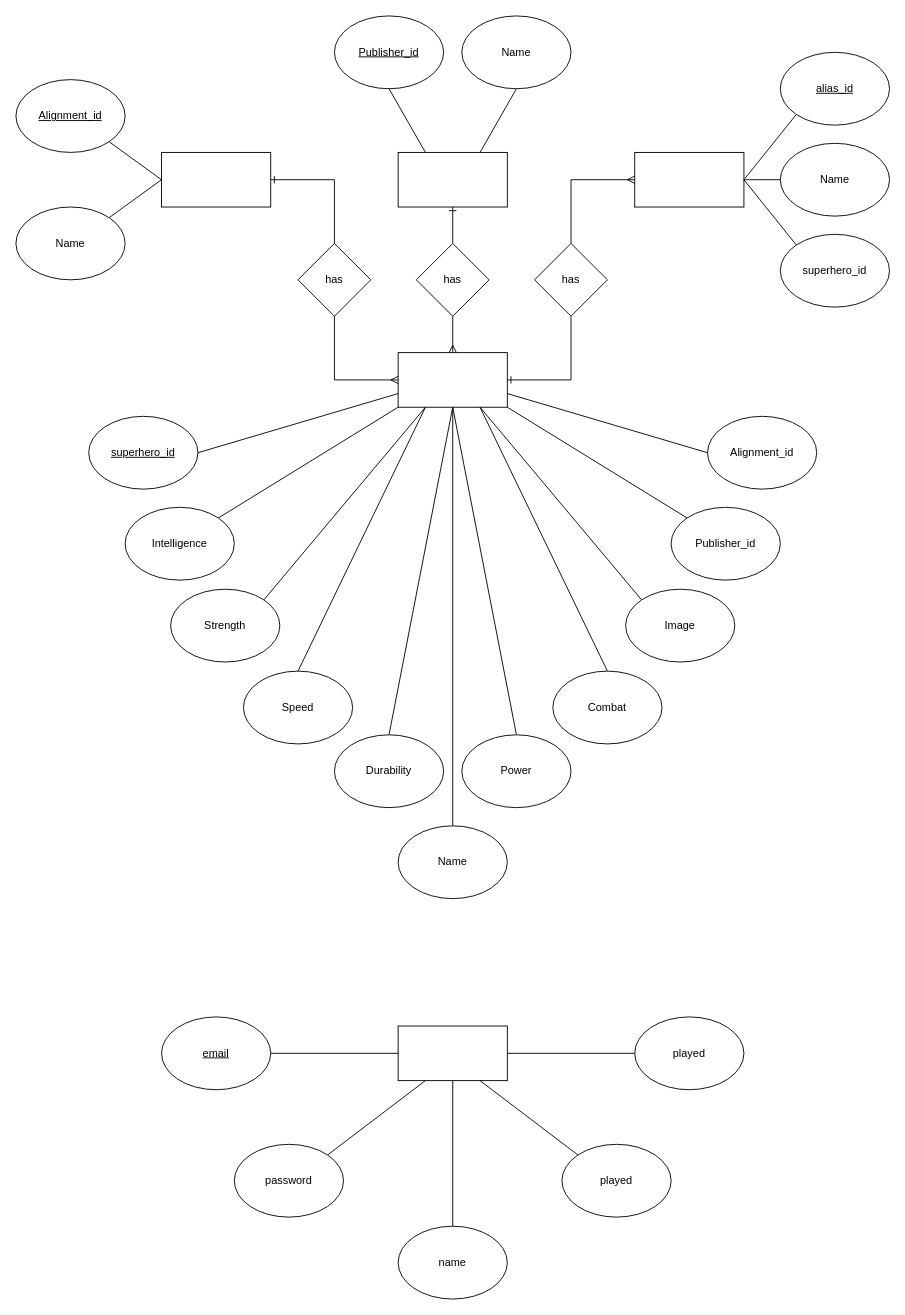
The diagram is 905 pixels wide and 1315 high, and some of its shapes have lost their labels. The centre of each missing label's shape, as x and y in pixels:
Alias: pixel 689 179
Alignment: pixel 216 179
publisher: pixel 452 179
Superhero: pixel 452 379
User: pixel 452 1053
